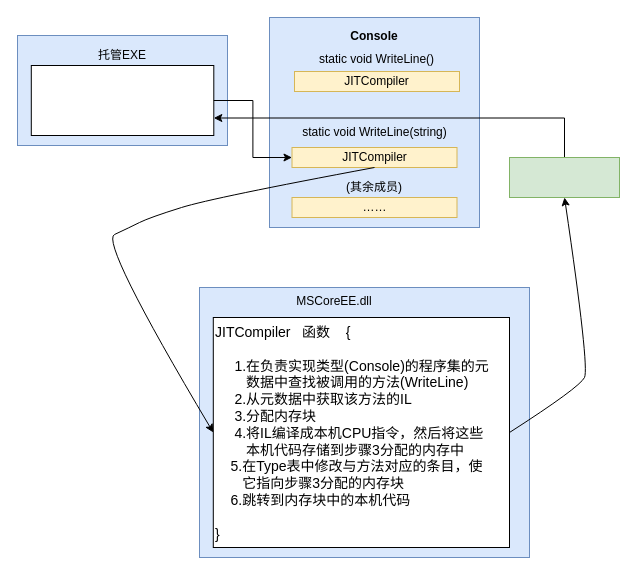
Some shapes in this 637 by 575 pixel diagram are drawn without their labels. Here are the shapes that lost their labels. From the top down, the box of each, then its label:
(30, 64, 214, 136): static void Main(){ ConsoleWriteLine("Hello"); ConsoleWriteLine("Goodbye"); }
(508, 156, 620, 198): 本机CPU 指令
